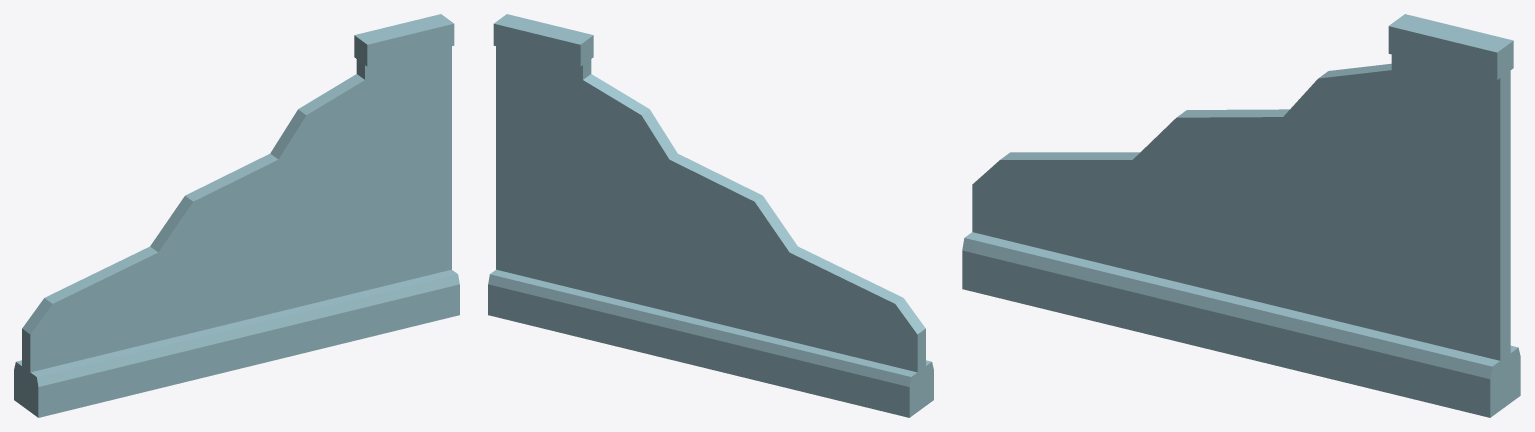
The model's file is stoneWallDamaged.fbx.
3 renders of one model, left to right at view 1: azimuth 30°, elevation 25°; view 2: azimuth 150°, elevation 25°; view 3: azimuth 330°, elevation 25°, orthographic. The views are drawn at different scales.
Parts seen in each view (by area): view 1: stoneWallDamaged; view 2: stoneWallDamaged; view 3: stoneWallDamaged.
Boxes of the visible parts, x1=… form: stoneWallDamaged: x1=14, y1=14, x2=459, y2=417; stoneWallDamaged: x1=488, y1=14, x2=933, y2=417; stoneWallDamaged: x1=962, y1=14, x2=1520, y2=417.
Size of the model in its own units: 10 by 6.52 by 1.
